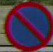No waiting: (4, 2, 50, 45)
